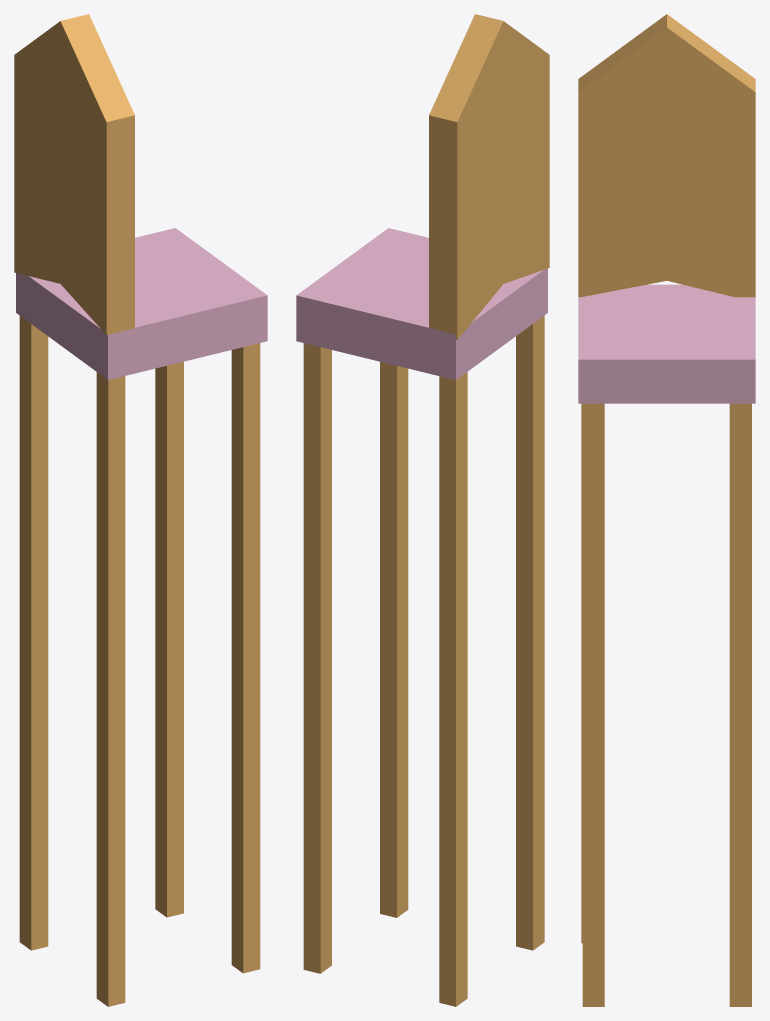
File: chair.fbx
The picture shows the model from 3 angles, left to right: view 1: azimuth 30°, elevation 25°; view 2: azimuth 150°, elevation 25°; view 3: azimuth 270°, elevation 25°; orthographic projection. The views are drawn at different scales.
Visible parts, largest first — view 1: Cube, Cube.001, Cube.002, Cube.005, Cube.003, Cube.004; view 2: Cube, Cube.001, Cube.003, Cube.004, Cube.002, Cube.005; view 3: Cube, Cube.001, Cube.004, Cube.005, Cube.002.
Part boxes in pixels (bbox=[...]): Cube: bbox=[14, 14, 134, 334]; Cube.001: bbox=[16, 228, 267, 379]; Cube.002: bbox=[96, 372, 125, 1006]; Cube.005: bbox=[231, 343, 260, 973]; Cube.003: bbox=[19, 316, 48, 950]; Cube.004: bbox=[155, 361, 183, 917]; Cube: bbox=[429, 14, 549, 339]; Cube.001: bbox=[296, 228, 547, 379]; Cube.003: bbox=[439, 372, 467, 1006]; Cube.004: bbox=[303, 343, 331, 973]; Cube.002: bbox=[516, 315, 544, 950]; Cube.005: bbox=[380, 361, 408, 917]; Cube: bbox=[578, 14, 755, 297]; Cube.001: bbox=[578, 284, 755, 403]; Cube.004: bbox=[729, 403, 751, 1006]; Cube.005: bbox=[582, 403, 604, 1006]; Cube.002: bbox=[581, 403, 582, 943].
Bounding box in the file's own units: 202 × 1143 × 200.
